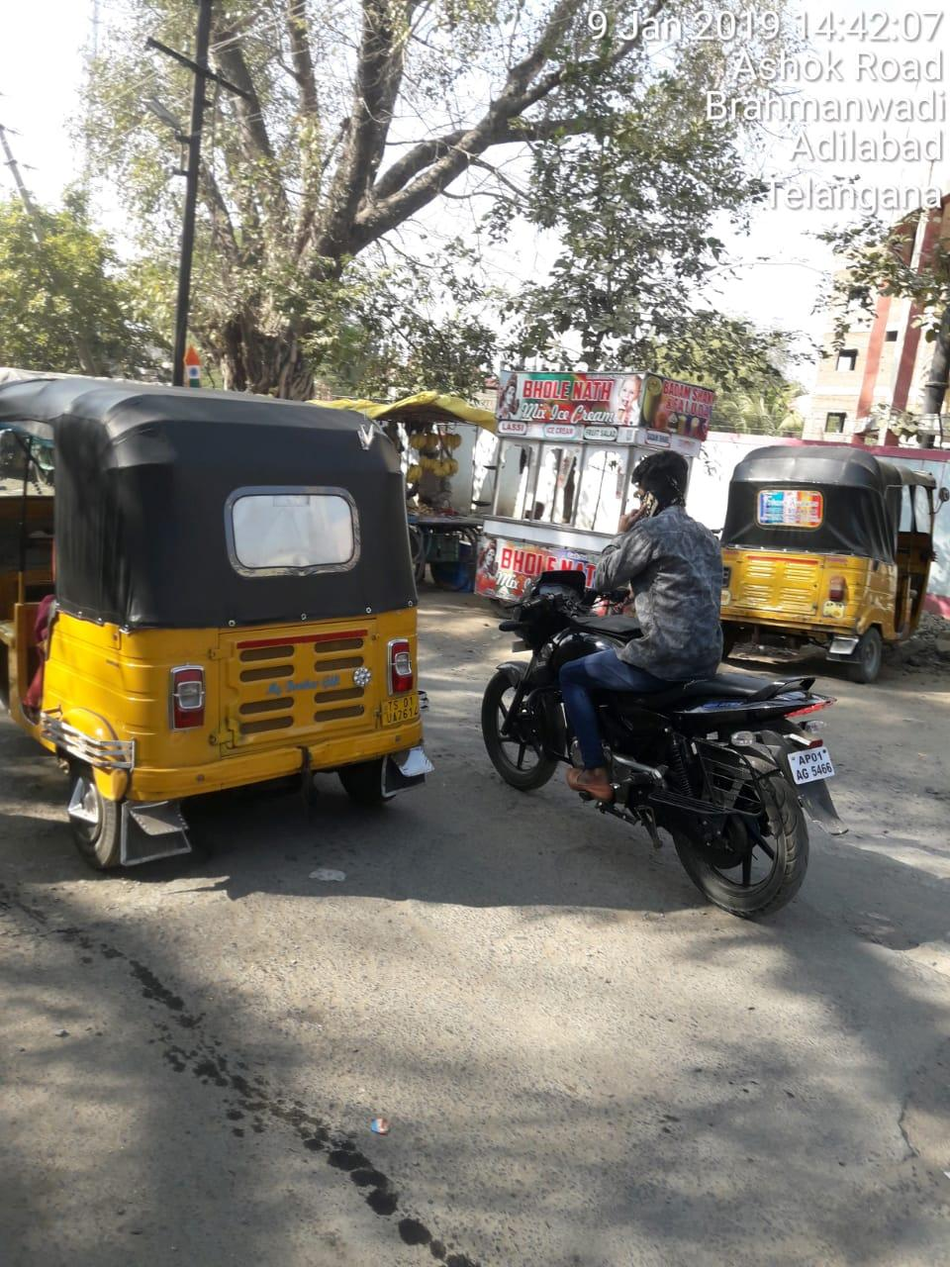plate: (787, 745, 845, 786)
